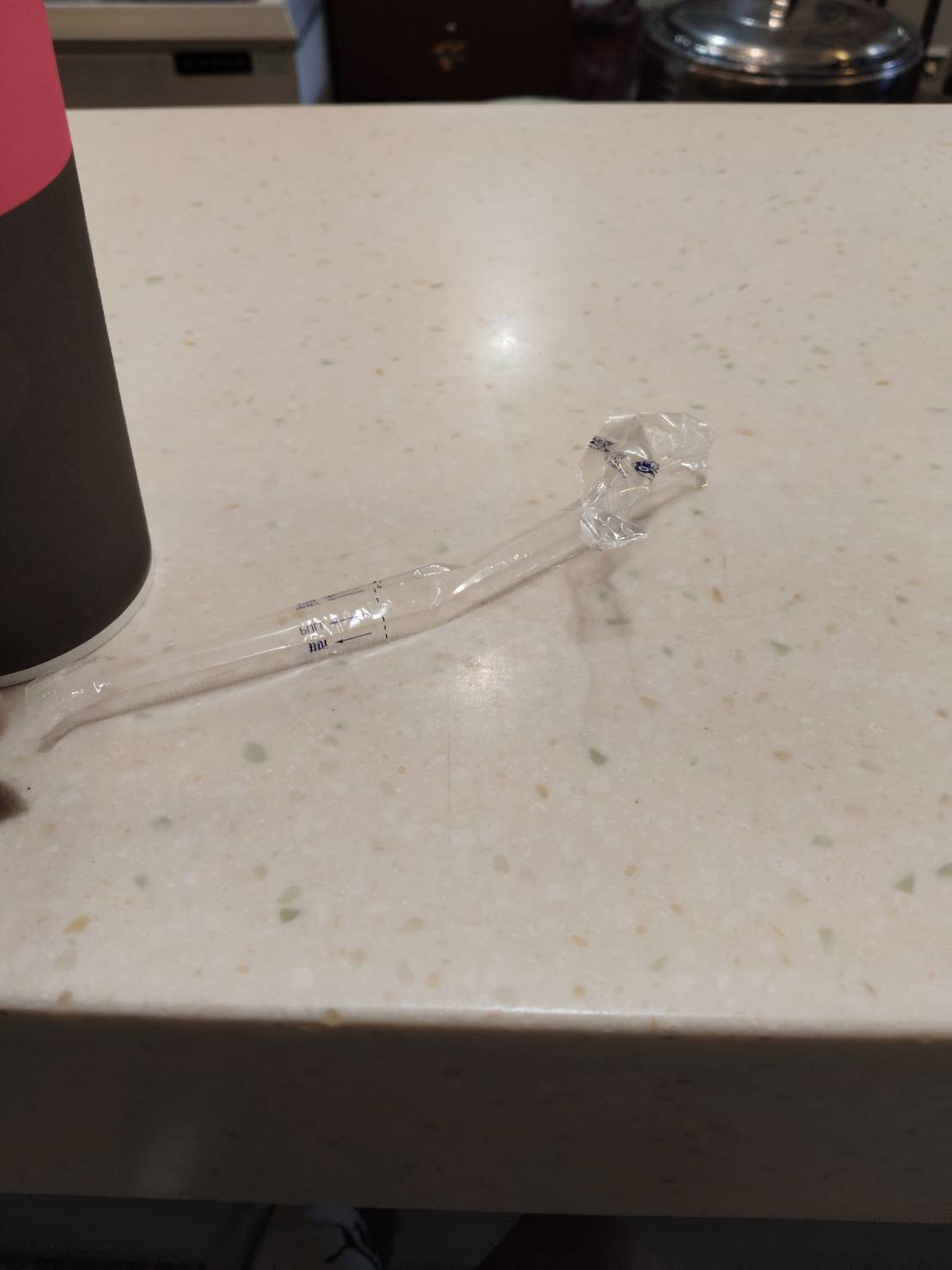General waste: (0, 424, 813, 848)
paper: (0, 0, 172, 708)
